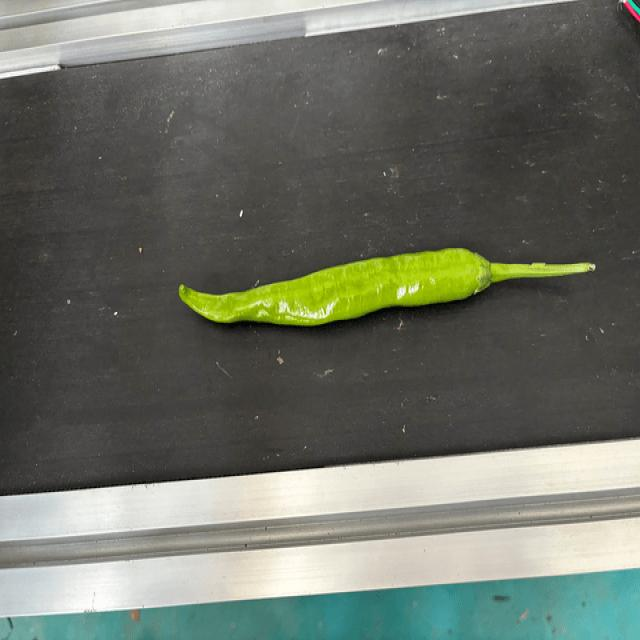chili: (177, 246, 493, 329)
